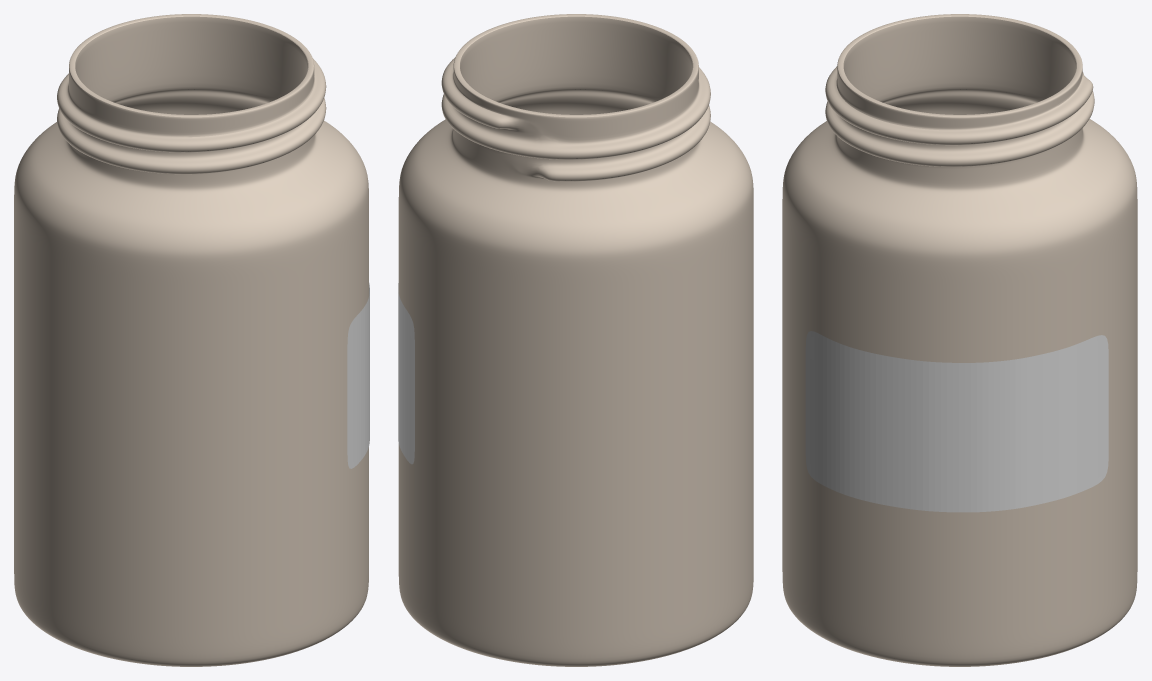
The picture shows the model from 3 angles, left to right: view 1: azimuth 30°, elevation 25°; view 2: azimuth 150°, elevation 25°; view 3: azimuth 270°, elevation 25°; orthographic projection.
Visible parts, largest first — view 1: Vial - Scintillation - 20 mL, Plane; view 2: Vial - Scintillation - 20 mL, Plane; view 3: Vial - Scintillation - 20 mL, Plane.
Boxes of the visible parts, left/top/right/bottom form: Vial - Scintillation - 20 mL: left=14, top=14, right=368, bottom=666; Plane: left=347, top=283, right=369, bottom=468; Vial - Scintillation - 20 mL: left=398, top=14, right=753, bottom=666; Plane: left=398, top=283, right=414, bottom=464; Vial - Scintillation - 20 mL: left=782, top=14, right=1137, bottom=666; Plane: left=805, top=331, right=1108, bottom=512.
Bounding box in the file's own units: 155 × 255 × 154.
